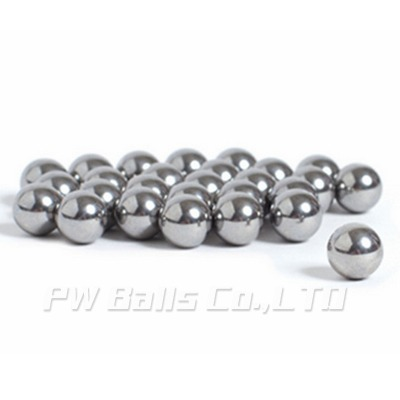ironball: (326, 221, 383, 280), (54, 189, 108, 244), (158, 193, 211, 248), (269, 188, 322, 242), (212, 191, 263, 245), (113, 186, 164, 240), (12, 183, 62, 236), (334, 162, 382, 213), (293, 165, 334, 212), (267, 175, 316, 207), (19, 157, 67, 188), (215, 178, 264, 207), (68, 152, 112, 183), (79, 178, 121, 210), (115, 149, 158, 180), (295, 153, 339, 183), (167, 180, 212, 209), (234, 167, 276, 198), (125, 173, 168, 202), (184, 169, 224, 200), (82, 165, 126, 193), (165, 147, 206, 177), (141, 161, 183, 190), (34, 170, 79, 197), (216, 146, 256, 171), (253, 156, 293, 181), (200, 158, 238, 183)
